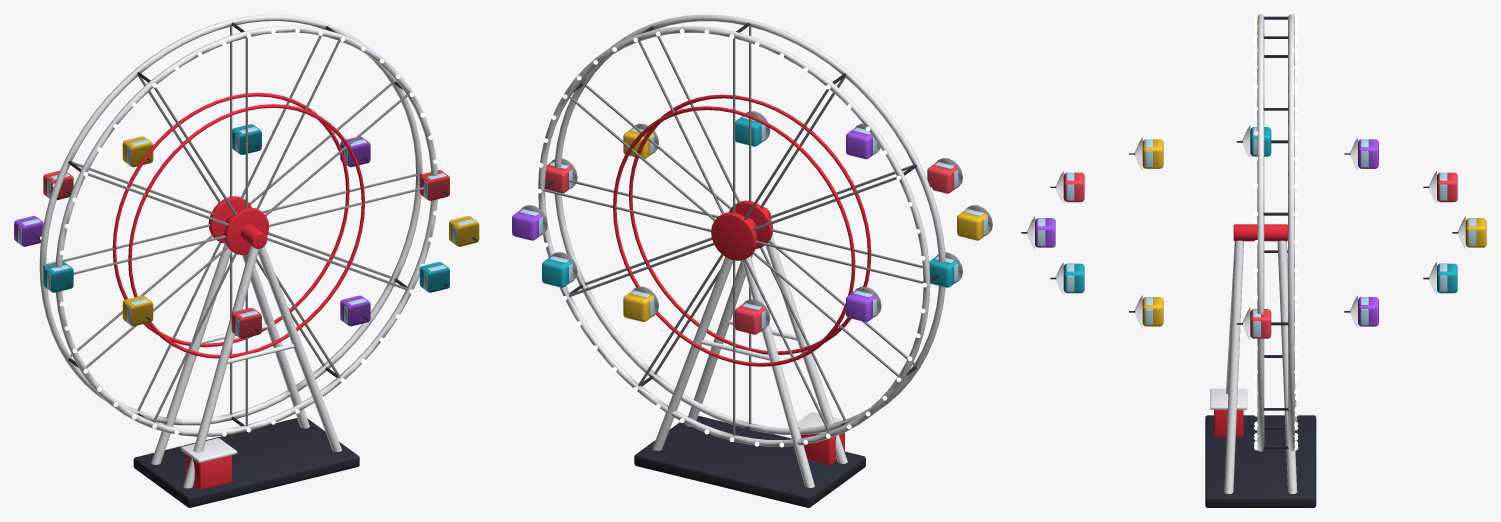
Rendered from ferris.glb.
3 renders of one model, left to right at view 1: azimuth 30°, elevation 25°; view 2: azimuth 150°, elevation 25°; view 3: azimuth 270°, elevation 25°, orthographic. The views are drawn at different scales.
Parts seen in each view (by area): view 1: FerrisWheel, FerrisBase, Gondola_5, Gondola_3, Gondola_1, Gondola_2, Gondola_4, Gondola_6, Gondola_0, Gondola_7, Gondola_9, Gondola_10 (+2 smaller); view 2: FerrisWheel, FerrisBase, Gondola_8, Gondola_9, Gondola_5, Gondola_11, Gondola_7, Gondola_10, Gondola_4, Gondola_6, Gondola_3, Gondola_2 (+2 smaller); view 3: FerrisBase, FerrisWheel, Gondola_2, Gondola_10, Gondola_4, Gondola_8, Gondola_5, Gondola_1, Gondola_9, Gondola_3, Gondola_11, Gondola_7 (+2 smaller).
Boxes of the visible parts, x1,y1,x2,y2 form: FerrisWheel: [38, 14, 437, 436]; FerrisBase: [133, 214, 359, 507]; Gondola_5: [122, 295, 153, 326]; Gondola_3: [340, 295, 370, 326]; Gondola_1: [449, 216, 479, 246]; Gondola_2: [419, 262, 449, 292]; Gondola_4: [231, 308, 261, 338]; Gondola_6: [43, 262, 73, 292]; Gondola_0: [419, 170, 449, 200]; Gondola_7: [14, 216, 43, 246]; Gondola_9: [122, 136, 153, 167]; Gondola_10: [232, 124, 261, 154]; FerrisWheel: [537, 14, 945, 447]; FerrisBase: [634, 207, 865, 507]; Gondola_8: [734, 299, 770, 334]; Gondola_9: [623, 286, 658, 321]; Gondola_5: [957, 205, 992, 240]; Gondola_11: [512, 205, 547, 240]; Gondola_7: [846, 286, 881, 321]; Gondola_10: [542, 252, 577, 287]; Gondola_4: [927, 158, 962, 193]; Gondola_6: [929, 252, 962, 287]; Gondola_3: [846, 123, 880, 159]; Gondola_2: [735, 111, 770, 146]; FerrisBase: [1205, 224, 1316, 507]; FerrisWheel: [1254, 14, 1298, 451]; Gondola_2: [1050, 262, 1084, 294]; Gondola_10: [1423, 262, 1457, 294]; Gondola_4: [1050, 171, 1084, 203]; Gondola_8: [1423, 171, 1457, 203]; Gondola_5: [1129, 138, 1163, 170]; Gondola_1: [1129, 295, 1163, 327]; Gondola_9: [1452, 217, 1486, 248]; Gondola_3: [1021, 216, 1055, 248]; Gondola_11: [1344, 295, 1378, 327]; Gondola_7: [1344, 138, 1378, 169].
Bounding box in the file's own units: 37.7 × 38.78 × 37.8.
